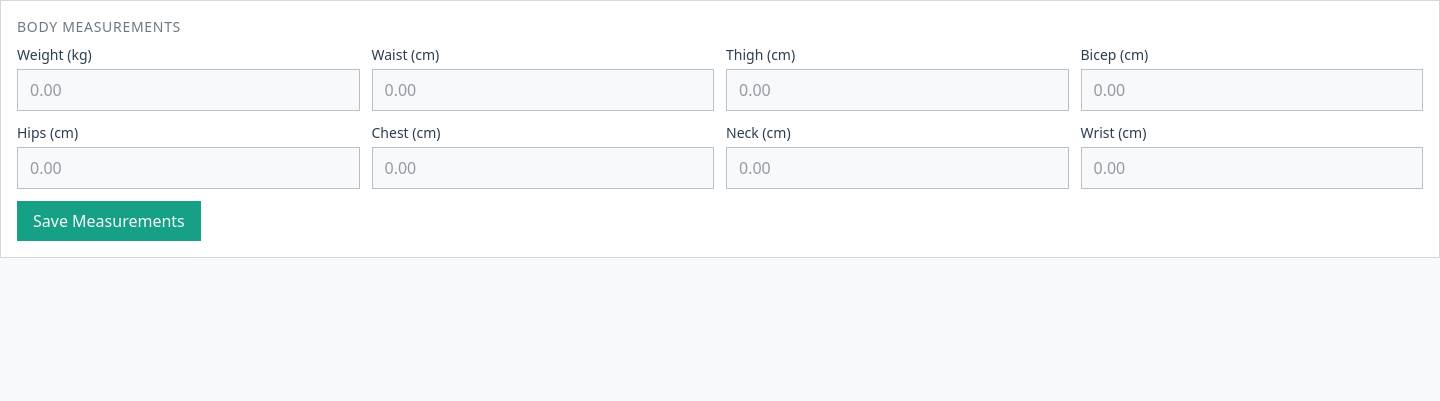
Test: MeasurementLogger › formats saved measurements with two decimal places, omitting blank fields
Type "80" into the number field labelled "Weight (kg)".
click(188, 90); type("80")  # box [17,69,360,111]
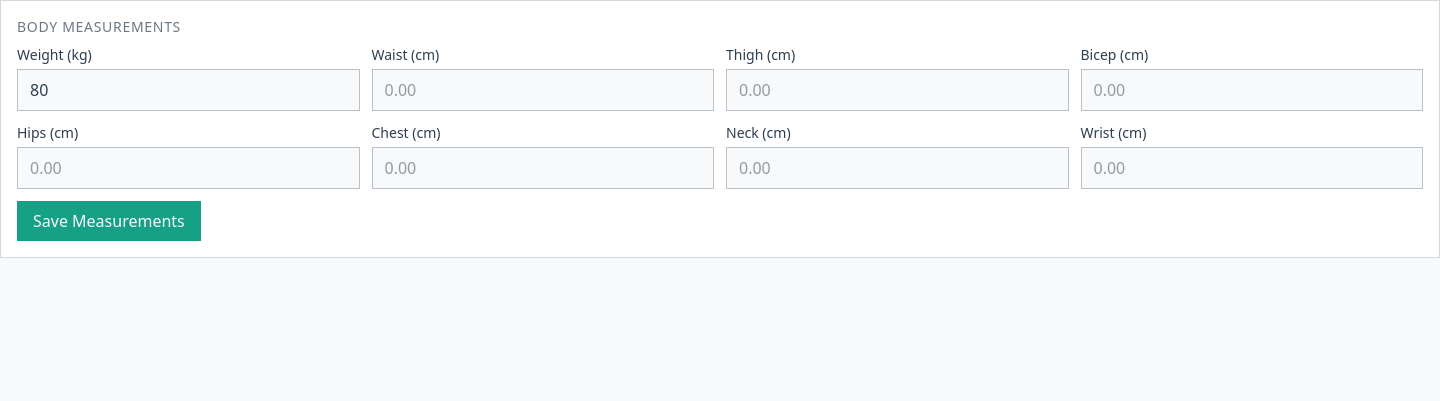
Type "17.5" into the number field labelled "Wrist (cm)".
click(1252, 168); type("17.5")  # box [1080,147,1423,189]
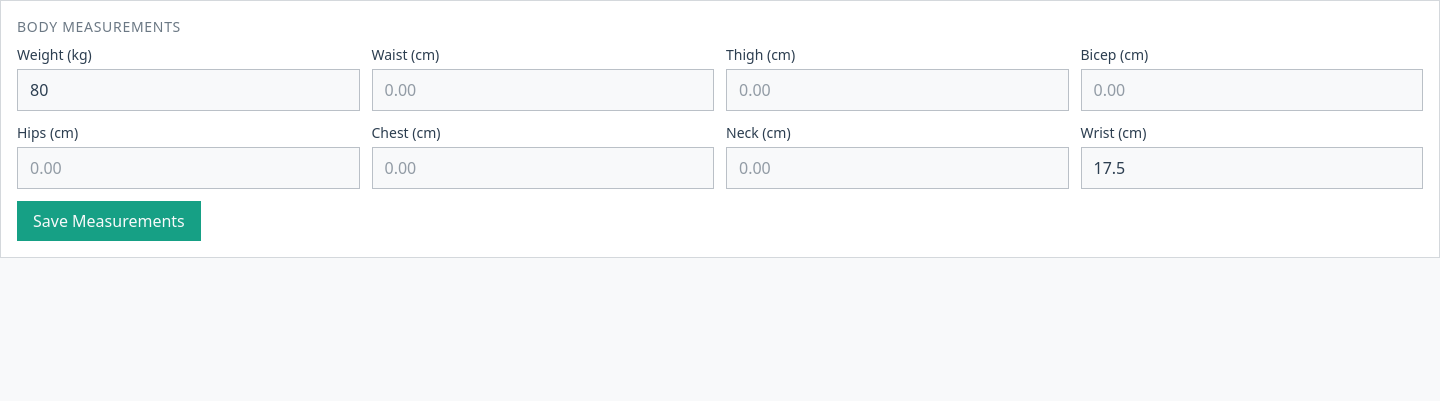
Click the button "Save Measurements".
click(109, 221)  # box [17,201,201,241]
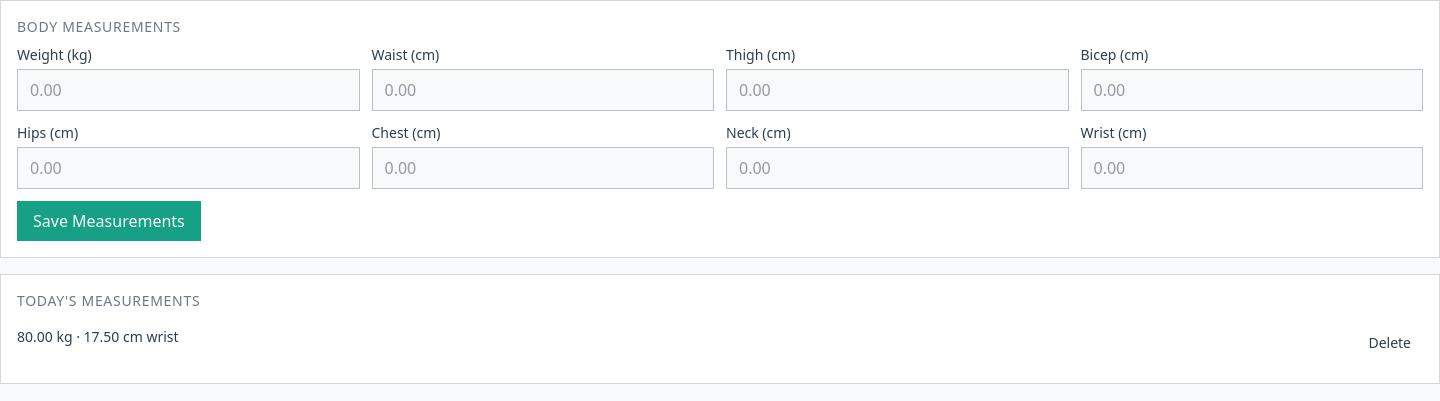
Expected: the text "80.00 kg · 17.50 cm wrist" is shown, [17,327,179,347]
